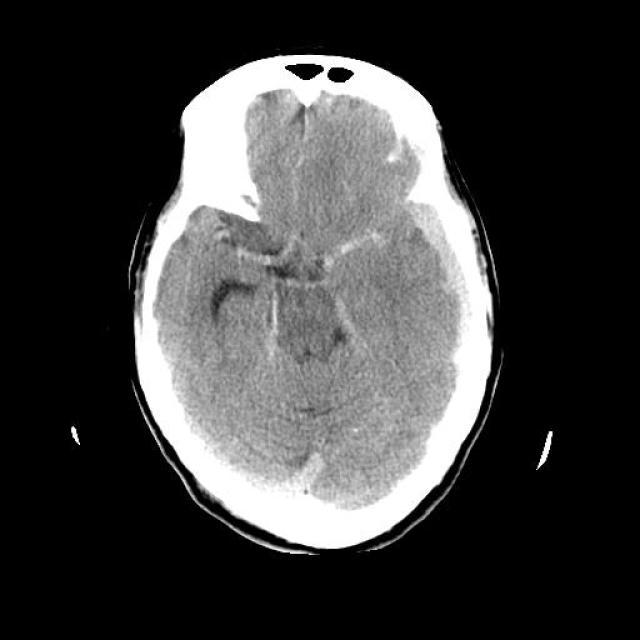Subarachnoid: (214, 214, 388, 374), (372, 119, 408, 170)
Subdural: (414, 186, 514, 444)
